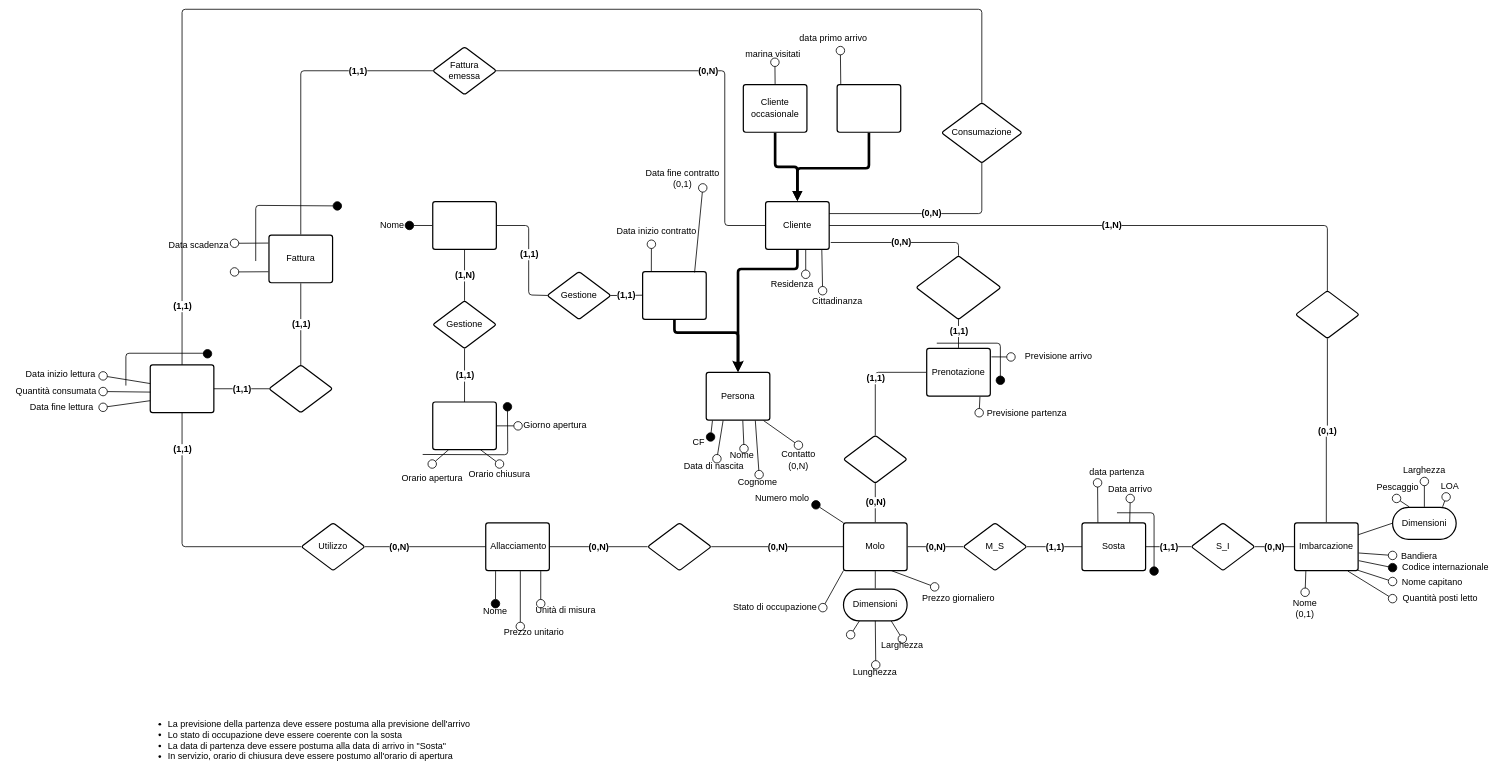
The diagram is 1507 pixels wide and 781 high, and some of its shapes have lost their labels. The centre of each missing label's shape, as x and y in pixels:
"Addetto" belongs at point 674,295.
"Cliente abituale" belongs at point 868,108.
"Consumo" belongs at point 181,388.
"Emissione" belongs at point 300,388.
"Fornitura" belongs at point 679,546.
"Pagato" belongs at point 214,270.
"Periodo apertura" belongs at point 464,425.
"Prenotazioni effettuate" belongs at point 958,287.
"Profondità minima" belongs at point 850,649.
"Proprietà" belongs at point 1327,314.
"Riserve" belongs at point 875,459.
"Servizio" belongs at point 464,225.
